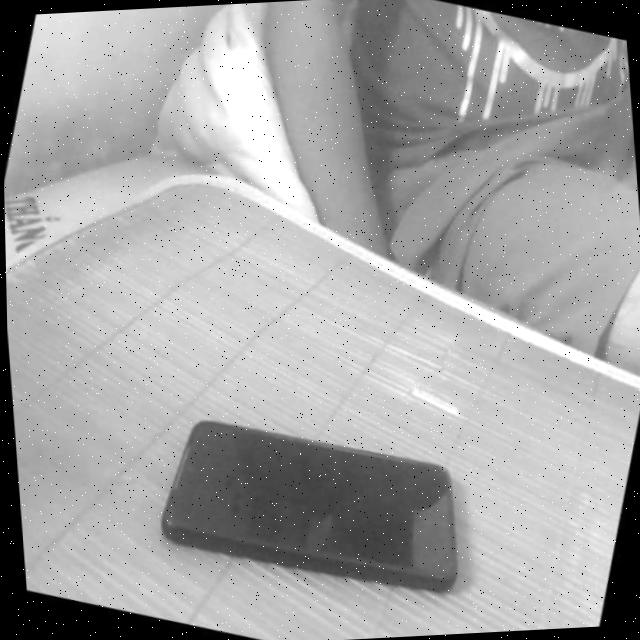phone: (129, 364, 511, 632)
